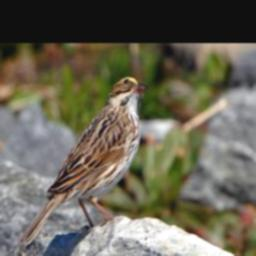Sparrow: (19, 75, 149, 250)
